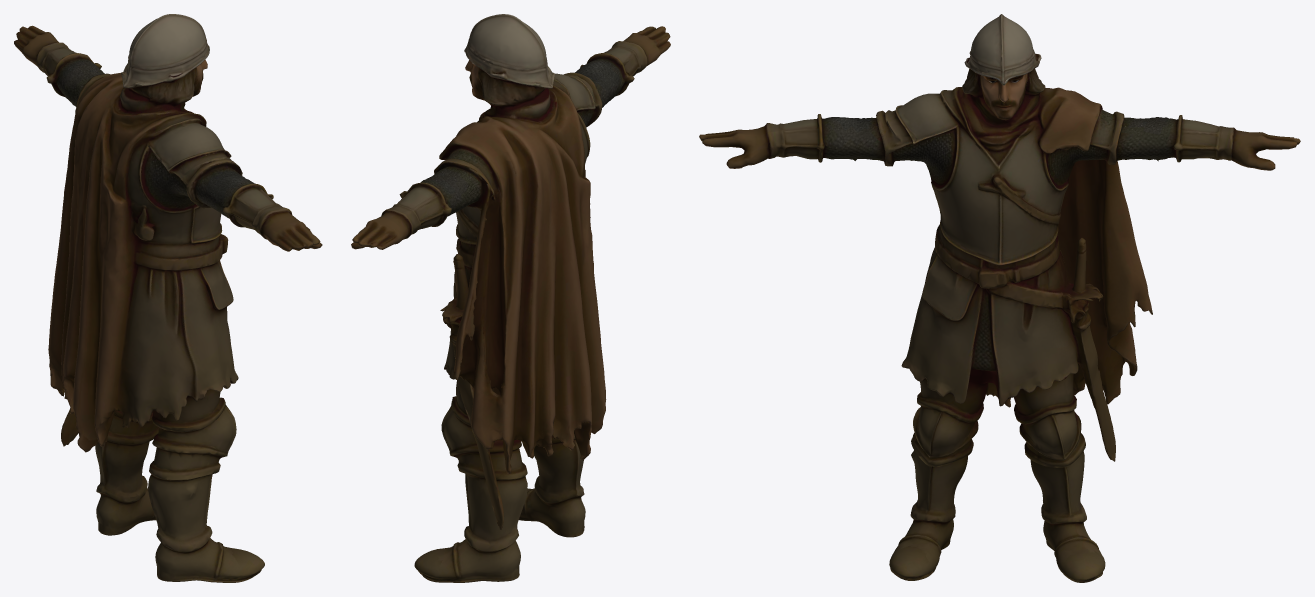
The model's file is Npc001.glb.
3 renders of one model, left to right at view 1: azimuth 30°, elevation 25°; view 2: azimuth 150°, elevation 25°; view 3: azimuth 270°, elevation 25°, orthographic.
Parts seen in each view (by area): view 1: tripo_node_edba8c63-ae2b-4c01-b852-ab87aa92c022; view 2: tripo_node_edba8c63-ae2b-4c01-b852-ab87aa92c022; view 3: tripo_node_edba8c63-ae2b-4c01-b852-ab87aa92c022.
Part boxes in pixels (bbox=[...]): tripo_node_edba8c63-ae2b-4c01-b852-ab87aa92c022: bbox=[14, 14, 322, 582]; tripo_node_edba8c63-ae2b-4c01-b852-ab87aa92c022: bbox=[351, 14, 670, 582]; tripo_node_edba8c63-ae2b-4c01-b852-ab87aa92c022: bbox=[699, 14, 1300, 582].
Bounding box in the file's own units: 0.272 × 0.9969 × 0.9995.
1 material, 1 textured.
